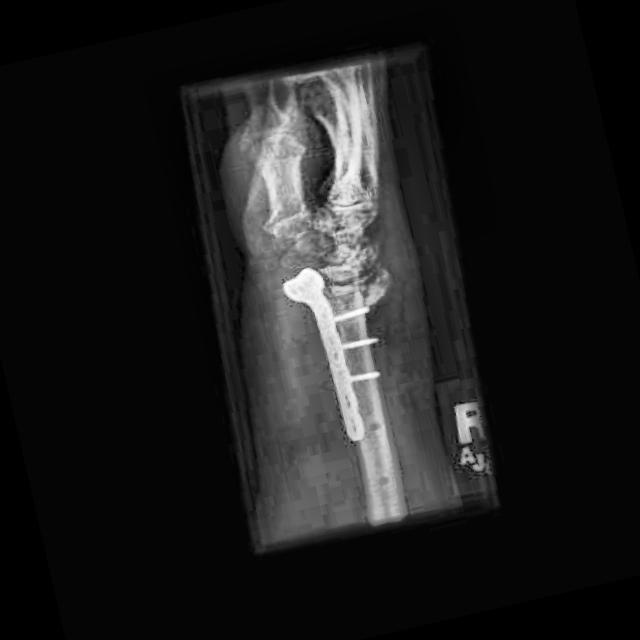fingers positive: (287, 261, 411, 325)
